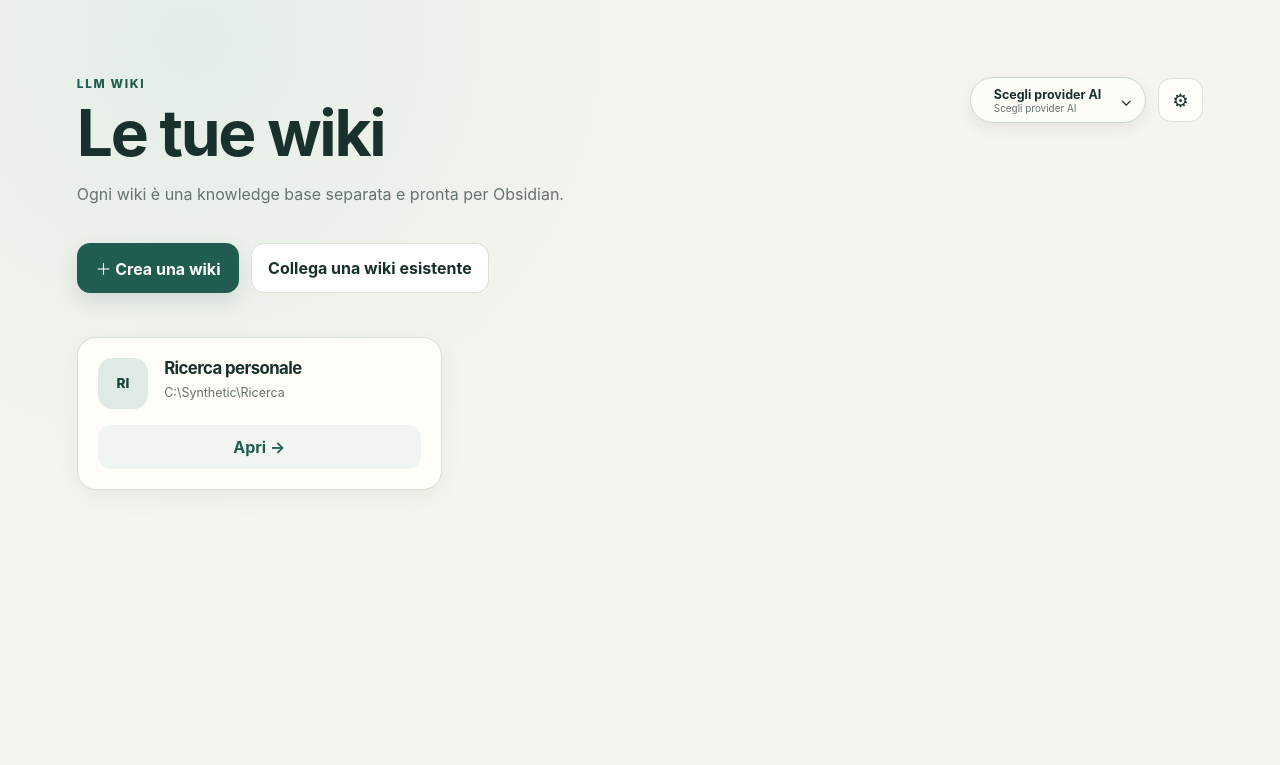
Test: App › adds multiple selections to one queue, deduplicates, and removes individual files
Click the button "Apri →" at (259, 447), box [98,425,421,469]
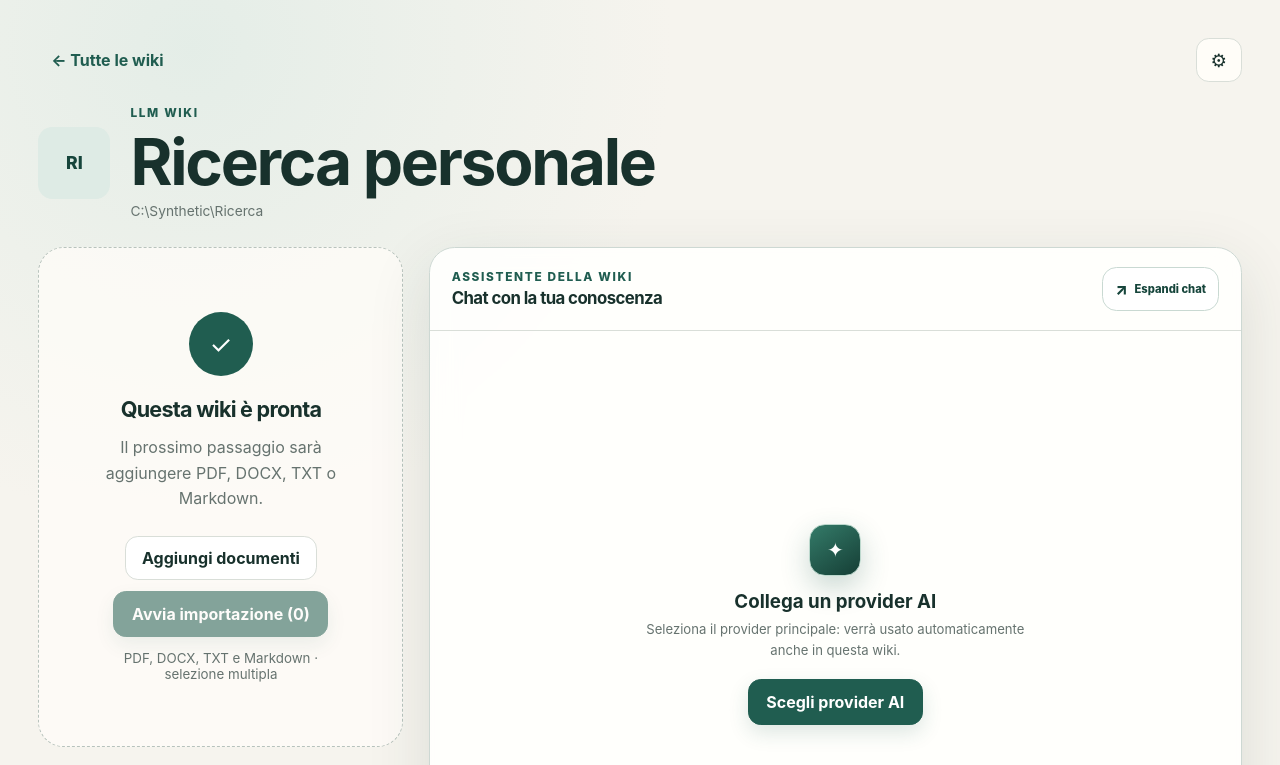
Click the button "Aggiungi documenti" at (221, 558), box [125,536,317,580]
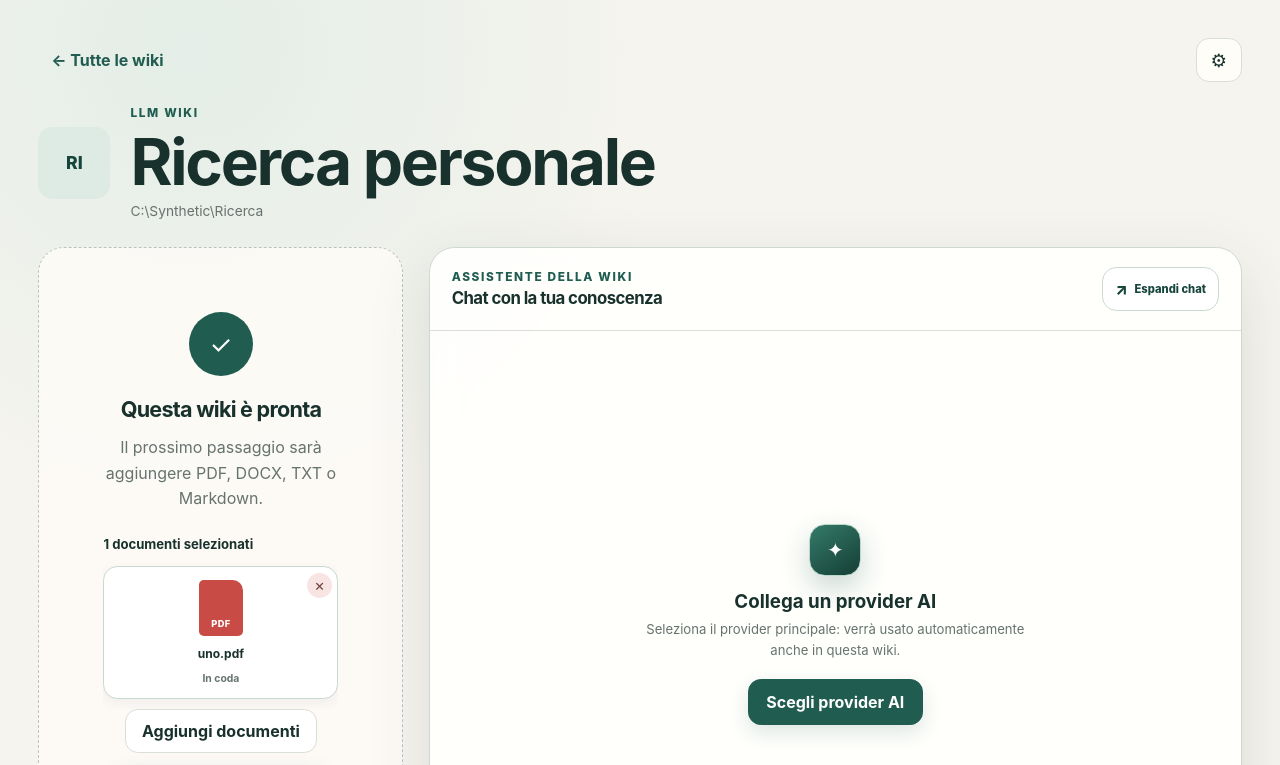
Check: the text "1 documenti selezionati" is shown, box [103,536,253,552]
Click the button "Aggiungi documenti" at (221, 731), box [125,709,317,753]
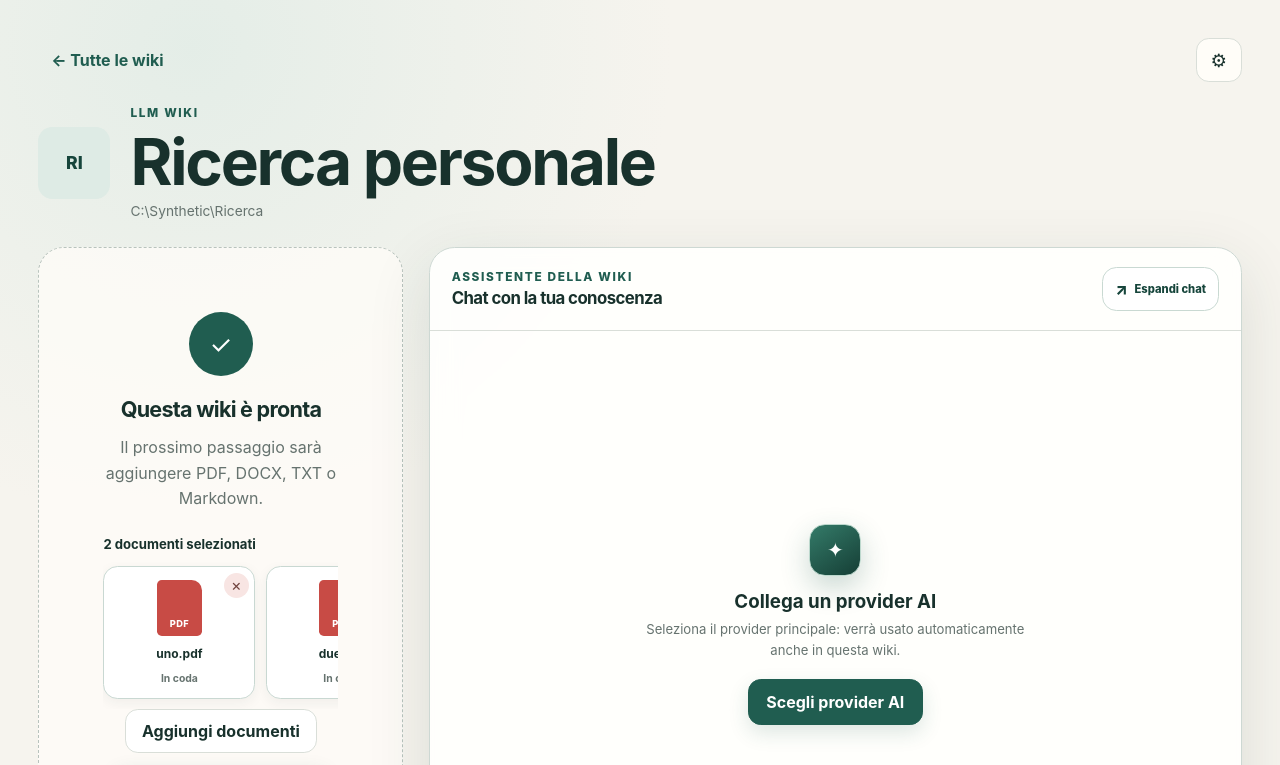
Check: the text "uno.pdf" is shown, box [156,646,202,661]
Check: the text "2 documenti selezionati" is shown, box [103,536,256,552]
Click the button named "Rimuovi documento: uno.pdf" at (236, 585), box [224,573,249,598]
(page scrolled)
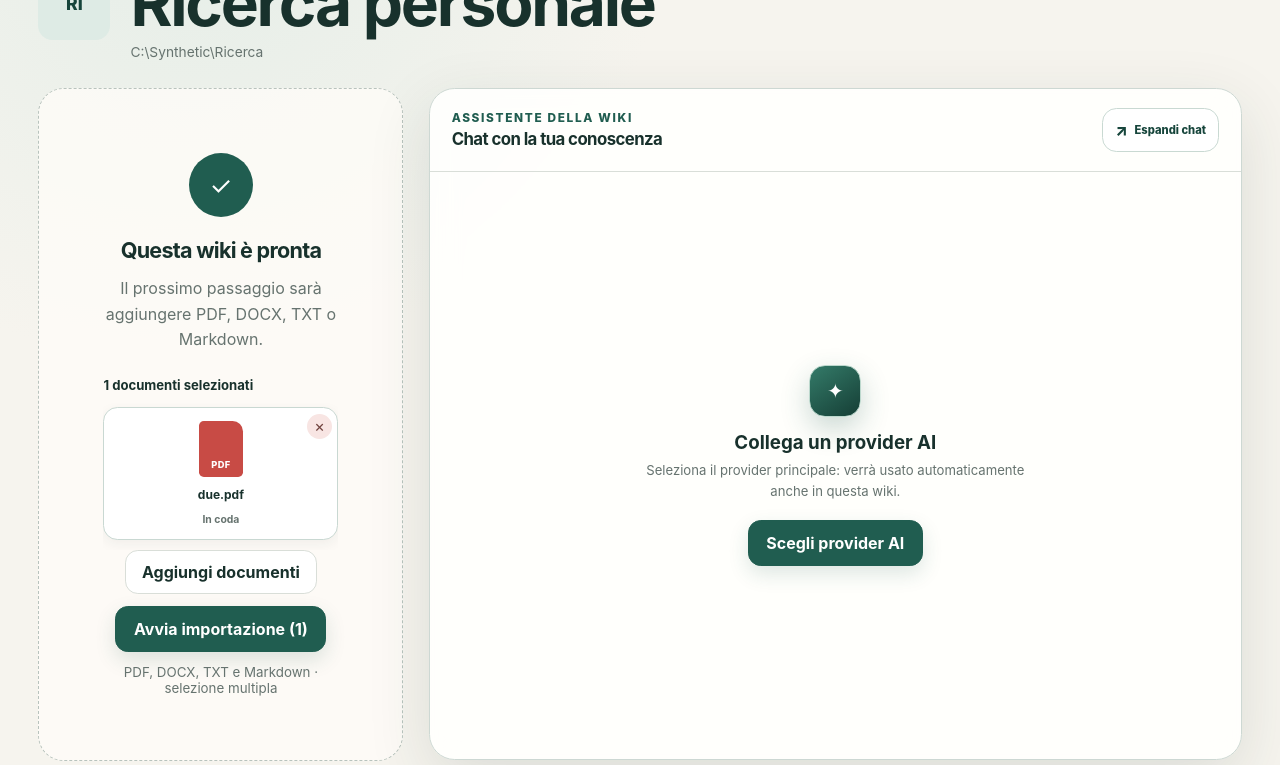
Check: the button "Avvia importazione (1)" is enabled, box [115,606,326,652]
Check: the text "uno.pdf" is gone
